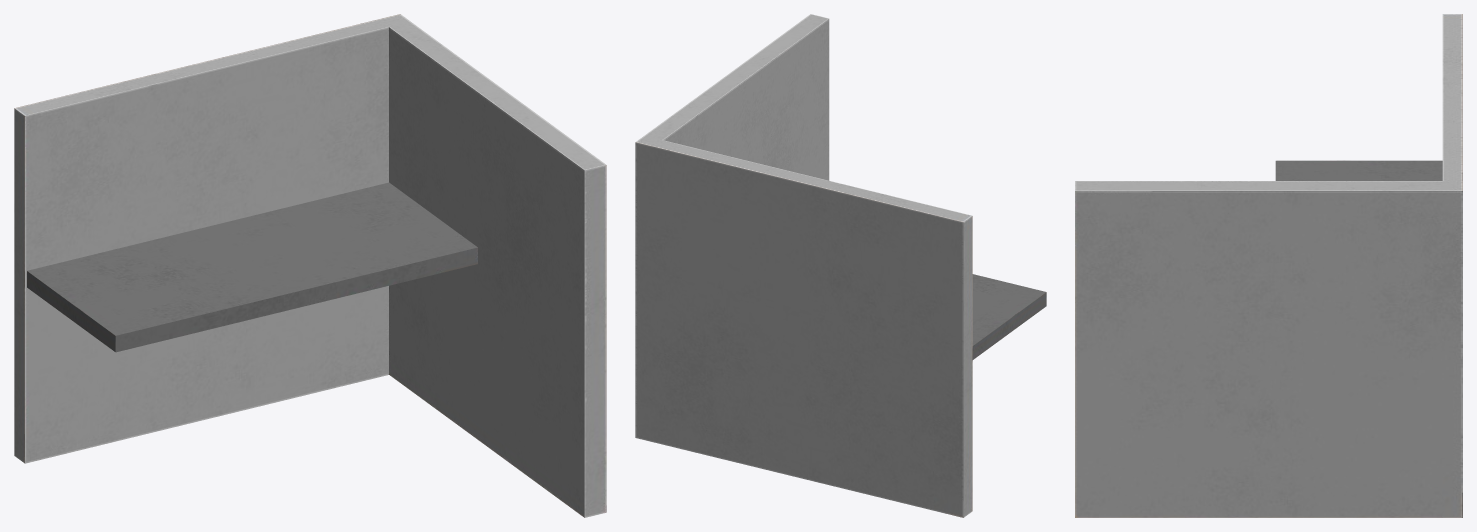
Rendered from Cubicolo_Model.fbx.
The picture shows the model from 3 angles, left to right: view 1: azimuth 30°, elevation 25°; view 2: azimuth 150°, elevation 25°; view 3: azimuth 270°, elevation 25°; orthographic projection. The views are drawn at different scales.
Visible parts, largest first — view 1: pCube3; view 2: pCube3; view 3: pCube3.
Part boxes in pixels (x1,y1,x2,y2): pCube3: (14,14,606,517); pCube3: (635,14,1046,517); pCube3: (1075,14,1462,517).
Bounding box in the file's own units: 337 × 290 × 312.
